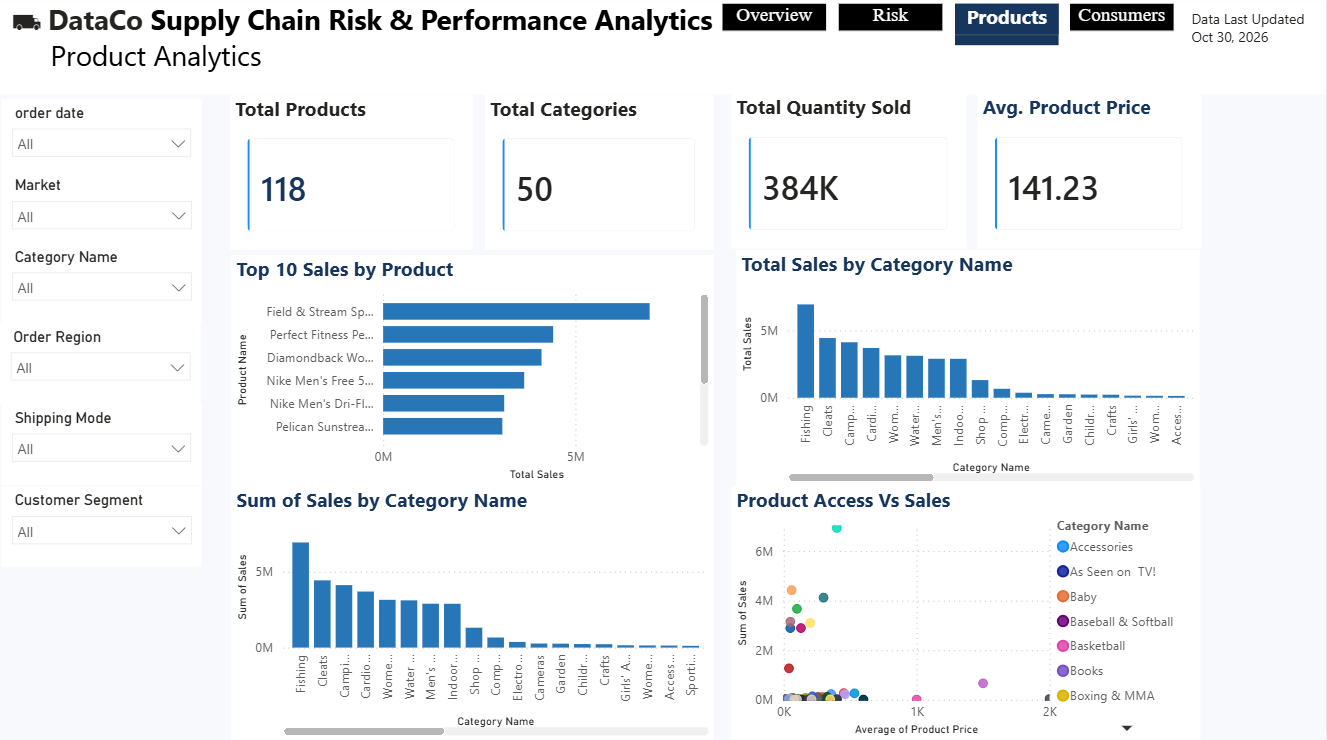

This screenshot's page, from the dashboard's own definition file:
{"tool":"powerbi","page":{"name":"Product Analytics","canvas":[1280,720],"ordinal":3},"visuals":[{"type":"textbox","box":[0,0,1280,96.2],"z":0},{"type":"actionButton","title":"Risk","box":[809.5,8.4,100,40],"z":1000},{"type":"actionButton","title":"Overview","box":[697.3,8.4,100,40],"z":2000},{"type":"actionButton","title":"Consumers","box":[1032.7,8.4,100,40],"z":3000},{"type":"actionButton","title":"Products","box":[921.7,8.4,100,40],"z":4000},{"type":"textbox","box":[1145,8.8,121.2,58.8],"z":5000},{"type":"slicer","title":"Order Date","fields":{"Values":["final_supply_chain_dashboard.order date"]},"box":[1.2,100,193.2,69.7],"z":6000},{"type":"slicer","fields":{"Values":["final_supply_chain_dashboard.Market"]},"box":[1.2,170,193.8,68.8],"z":7000},{"type":"slicer","fields":{"Values":["final_supply_chain_dashboard.Category Name"]},"box":[1.2,238.8,193.8,77.5],"z":8000},{"type":"slicer","fields":{"Values":["final_supply_chain_dashboard.Order Region"]},"box":[0,316.2,193.8,78.8],"z":9000},{"type":"slicer","fields":{"Values":["final_supply_chain_dashboard.Shipping Mode"]},"box":[1.2,395,193.2,78.3],"z":10000},{"type":"slicer","fields":{"Values":["final_supply_chain_dashboard.Customer Segment"]},"box":[1.2,473.8,193.8,77.5],"z":11000},{"type":"cardVisual","title":"Total Products","fields":{"Data":["Count(final_supply_chain_dashboard.Product Card Id)"]},"box":[222,96.5,234,149.6],"z":12000},{"type":"cardVisual","title":"Total Categories","fields":{"Data":["final_supply_chain_dashboard.Total Categories"]},"box":[468.1,96.5,220.8,149.6],"z":13000},{"type":"cardVisual","title":"Total Quantity Sold","fields":{"Data":["final_supply_chain_dashboard.Total Quantity Sold"]},"box":[705.8,95.3,226.8,149.6],"z":14000},{"type":"cardVisual","title":"Avg. Product Price","fields":{"Data":["final_supply_chain_dashboard.Average Product Price"]},"box":[943.4,95.3,216,149.6],"z":15000},{"type":"clusteredBarChart","title":"Top 10 Sales by Product","fields":{"Category":["final_supply_chain_dashboard.Product Name"],"Y":["final_supply_chain_dashboard.Total Sales"]},"box":[222.9,251.4,465.7,222.9],"z":16000},{"type":"clusteredColumnChart","fields":{"Category":["final_supply_chain_dashboard.Category Name"],"Y":["final_supply_chain_dashboard.Total Sales"]},"box":[710,245.7,447.1,228.6],"z":17000},{"type":"clusteredColumnChart","fields":{"Category":["final_supply_chain_dashboard.Category Name"],"Y":["Sum(final_supply_chain_dashboard.Sales)"]},"box":[222.9,474.3,465.7,245.7],"z":18000},{"type":"scatterChart","title":"Product Access Vs Sales","fields":{"Category":["final_supply_chain_dashboard.Product Name"],"Series":["final_supply_chain_dashboard.Category Name"],"X":["Avg(final_supply_chain_dashboard.Product Price)"],"Y":["Sum(final_supply_chain_dashboard.Sales)"]},"box":[705.8,474.1,452.4,246.1],"z":19000}]}

Visuals, with their boxes in screenshot pixels (x1, y1, x2, y2), scaled from the page's 1280x720 canvas onto the 1327x740 screenshot:
textbox: box=[0, 0, 1326, 99]
"Risk" actionButton: box=[839, 9, 943, 50]
"Overview" actionButton: box=[723, 9, 827, 50]
"Consumers" actionButton: box=[1071, 9, 1174, 50]
"Products" actionButton: box=[956, 9, 1059, 50]
textbox: box=[1187, 9, 1313, 69]
"Order Date" slicer: box=[1, 103, 202, 174]
slicer - final_supply_chain_dashboard.Market: box=[1, 175, 202, 245]
slicer - final_supply_chain_dashboard.Category Name: box=[1, 245, 202, 325]
slicer - final_supply_chain_dashboard.Order Region: box=[0, 325, 201, 406]
slicer - final_supply_chain_dashboard.Shipping Mode: box=[1, 406, 202, 486]
slicer - final_supply_chain_dashboard.Customer Segment: box=[1, 487, 202, 567]
"Total Products" cardVisual: box=[230, 99, 473, 253]
"Total Categories" cardVisual: box=[485, 99, 714, 253]
"Total Quantity Sold" cardVisual: box=[732, 98, 967, 252]
"Avg. Product Price" cardVisual: box=[978, 98, 1202, 252]
"Top 10 Sales by Product" clusteredBarChart: box=[231, 258, 714, 487]
clusteredColumnChart - final_supply_chain_dashboard.Category Name x final_supply_chain_dashboard.Total Sales: box=[736, 253, 1200, 487]
clusteredColumnChart - final_supply_chain_dashboard.Category Name x Sum(final_supply_chain_dashboard.Sales): box=[231, 487, 714, 739]
"Product Access Vs Sales" scatterChart: box=[732, 487, 1201, 739]
